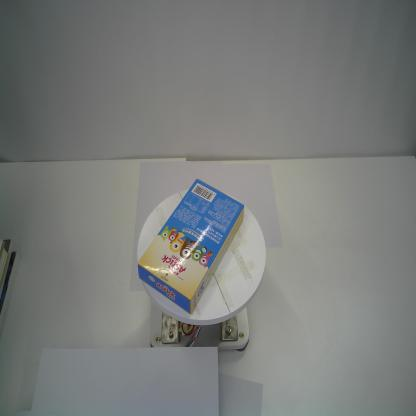Dessert: (137, 178, 245, 314)
